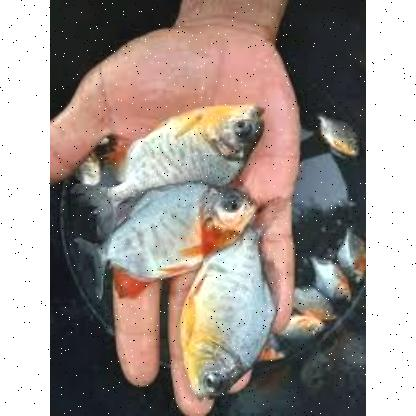ikan-pacu: (179, 224, 277, 392), (91, 185, 261, 277), (98, 102, 258, 192)
